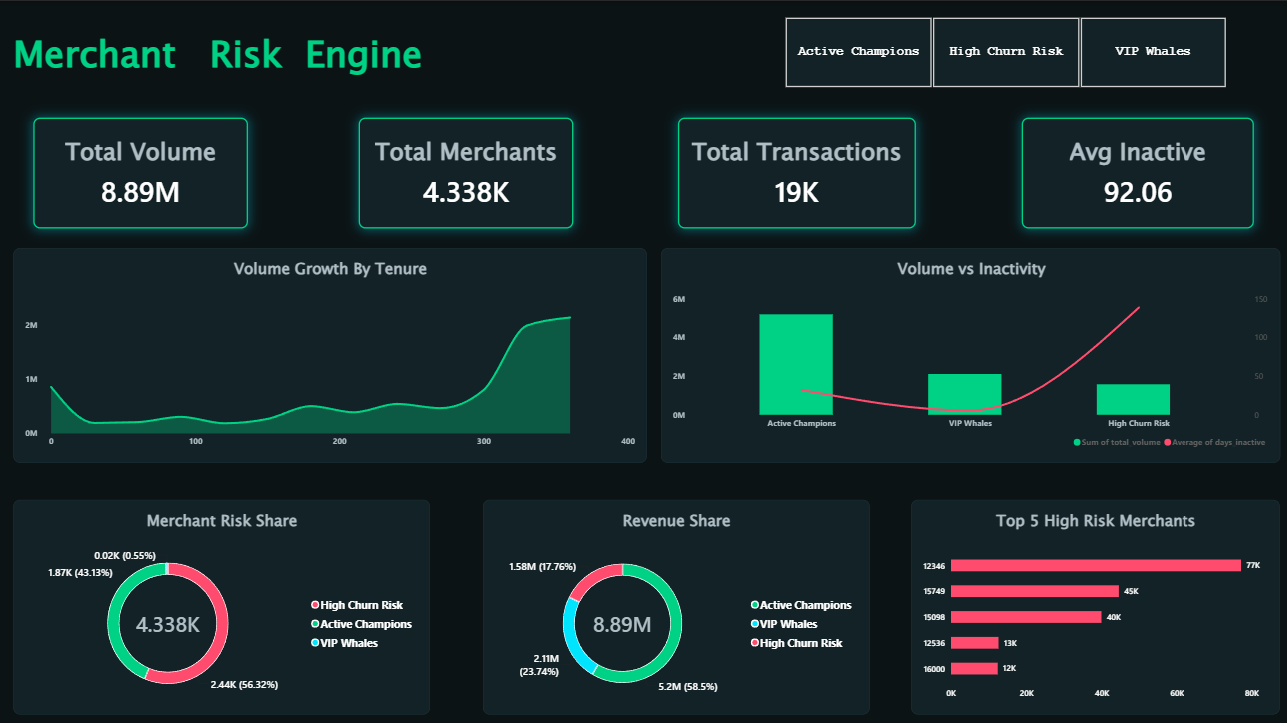

What the dashboard file says about the page in this screenshot:
{"tool":"powerbi","page":{"name":"Page 1","canvas":[1920,1080],"ordinal":0},"visuals":[{"type":"cardVisual","fields":{"Data":["Sum(merchant_predictions.total_volume)"]},"box":[51.4,173.8,318.2,164],"z":0},{"type":"cardVisual","fields":{"Data":["Avg(merchant_predictions.days_inactive)"]},"box":[1515.2,173.8,345.1,164],"z":1},{"type":"cardVisual","fields":{"Data":["Sum(merchant_predictions.tx_count)"]},"box":[1006,173.8,352.5,164],"z":2},{"type":"cardVisual","fields":{"Data":["Count(merchant_predictions.merchant_id)"]},"box":[533.6,173.8,318.2,164],"z":3},{"type":"textbox","box":[22.3,38.2,696.4,111.3],"z":4},{"type":"slicer","fields":{"Values":["merchant_predictions.Risk_Category"]},"box":[1145.7,22.7,693.3,106.8],"z":5},{"type":"areaChart","title":"Volume Growth By Tenure","fields":{"Category":["merchant_predictions.tenure (bins)"],"Y":["Sum(merchant_predictions.total_volume)"]},"box":[22.3,365.7,938.1,318],"z":6},{"type":"lineClusteredColumnComboChart","title":"Volume vs Inactivity","fields":{"Category":["merchant_predictions.Risk_Category"],"Y":["Sum(merchant_predictions.total_volume)"],"Y2":["Avg(merchant_predictions.days_inactive)"]},"box":[982,366,918.4,318.3],"z":7},{"type":"donutChart","title":"Merchant Risk Share","fields":{"Category":["merchant_predictions.Risk_Category"],"Y":["Count(merchant_predictions.merchant_id)"]},"box":[22.3,737.8,616.9,318],"z":8},{"type":"donutChart","title":"Revenue Share","fields":{"Category":["merchant_predictions.Risk_Category"],"Y":["Sum(merchant_predictions.total_volume)"]},"box":[718.7,737.8,572.4,318],"z":9},{"type":"clusteredBarChart","title":"Top 5 High Risk Merchants","fields":{"Category":["merchant_predictions.merchant_id"],"Y":["Sum(merchant_predictions.total_volume)"]},"box":[1351.6,737.8,547,318],"z":11}]}

Visuals, with their boxes in screenshot pixels (x1, y1, x2, y2), scaled from the page's 1920x1080 canvas onto the 1287x723 screenshot:
cardVisual - Sum(merchant_predictions.total_volume): [left=34, top=116, right=248, bottom=226]
cardVisual - Avg(merchant_predictions.days_inactive): [left=1016, top=116, right=1247, bottom=226]
cardVisual - Sum(merchant_predictions.tx_count): [left=674, top=116, right=911, bottom=226]
cardVisual - Count(merchant_predictions.merchant_id): [left=358, top=116, right=571, bottom=226]
textbox: [left=15, top=26, right=482, bottom=100]
slicer - merchant_predictions.Risk_Category: [left=768, top=15, right=1233, bottom=87]
"Volume Growth By Tenure" areaChart: [left=15, top=245, right=644, bottom=458]
"Volume vs Inactivity" lineClusteredColumnComboChart: [left=658, top=245, right=1274, bottom=458]
"Merchant Risk Share" donutChart: [left=15, top=494, right=428, bottom=707]
"Revenue Share" donutChart: [left=482, top=494, right=865, bottom=707]
"Top 5 High Risk Merchants" clusteredBarChart: [left=906, top=494, right=1273, bottom=707]
